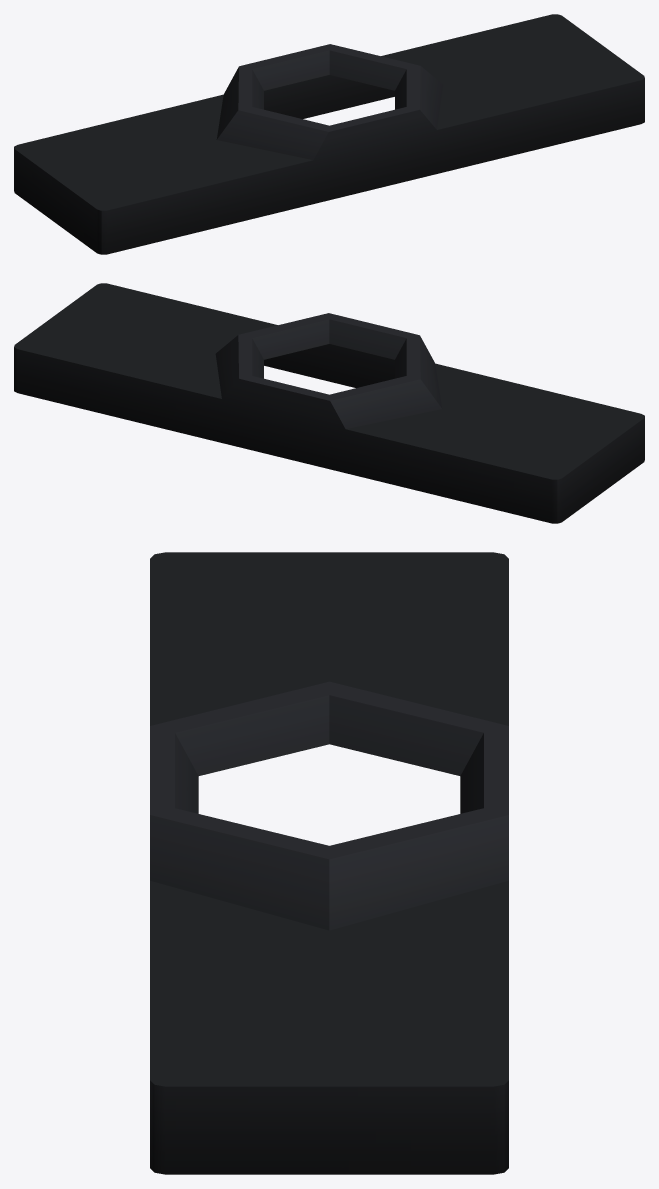
File: levetta_base.fbx
3 views of the same model, one above another, from view 1: azimuth 30°, elevation 25°; view 2: azimuth 150°, elevation 25°; view 3: azimuth 270°, elevation 25° (orthographic). The views are drawn at different scales.
Visible parts, largest first — view 1: levetta_base; view 2: levetta_base; view 3: levetta_base.
Boxes of the visible parts, box(x1,y1,x2,y2) form: levetta_base: box(14, 14, 644, 254); levetta_base: box(14, 283, 644, 523); levetta_base: box(150, 552, 508, 1174).
Bounding box in the file's own units: 6.43 × 0.7693 × 1.83.
